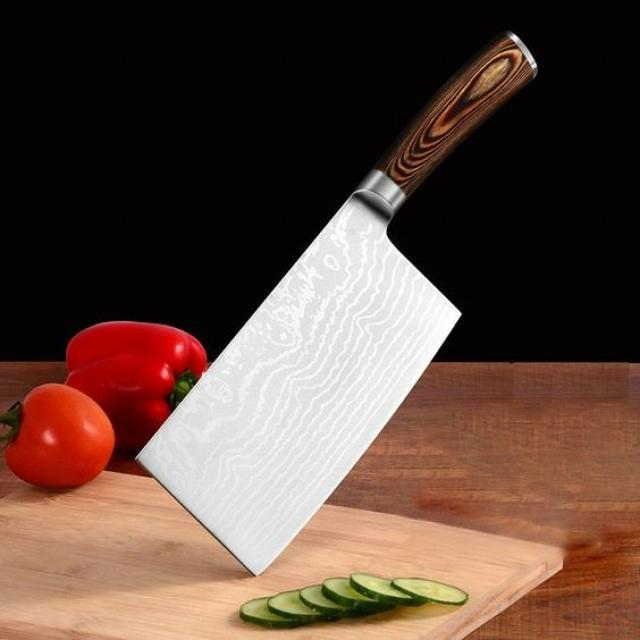cleaver: (134, 31, 537, 576)
